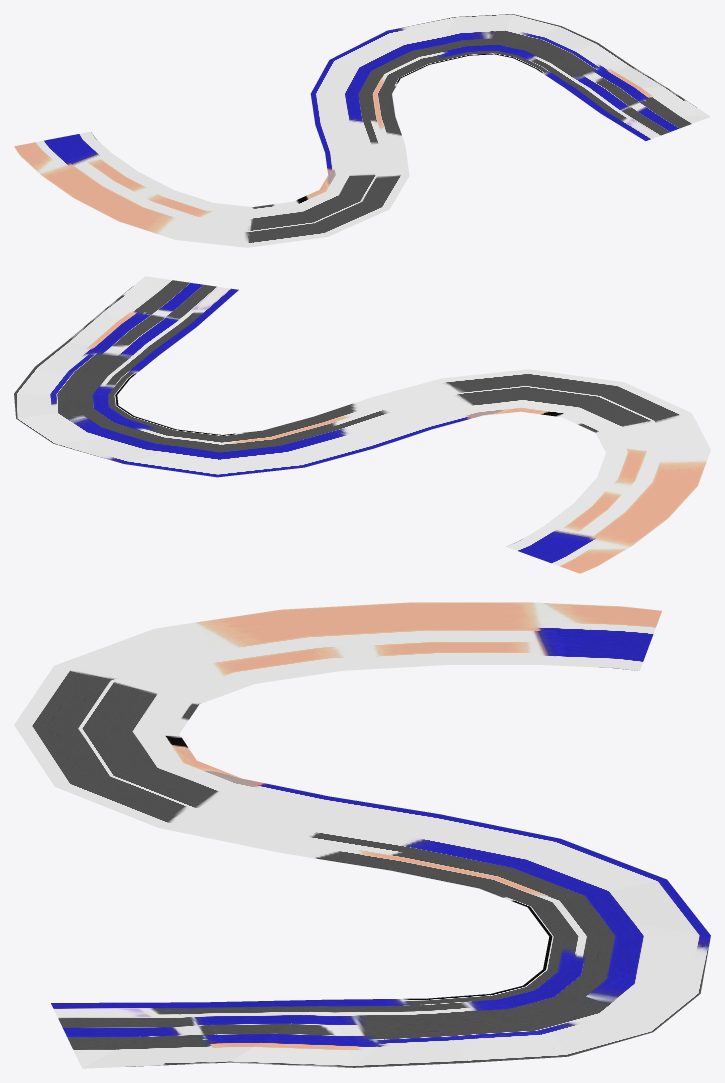
Rendered from track-3.FBX.
The picture shows the model from 3 angles, top to bottom: view 1: azimuth 30°, elevation 25°; view 2: azimuth 150°, elevation 25°; view 3: azimuth 270°, elevation 25°; orthographic projection. The views are drawn at different scales.
Parts seen in each view (by area): view 1: Object002; view 2: Object002; view 3: Object002.
Part boxes in pixels (left/top/right/bottom): Object002: left=14, top=14, right=710, bottom=247; Object002: left=14, top=276, right=710, bottom=573; Object002: left=14, top=602, right=710, bottom=1068.
Size of the model in its own units: 869 by 22.48 by 521.
